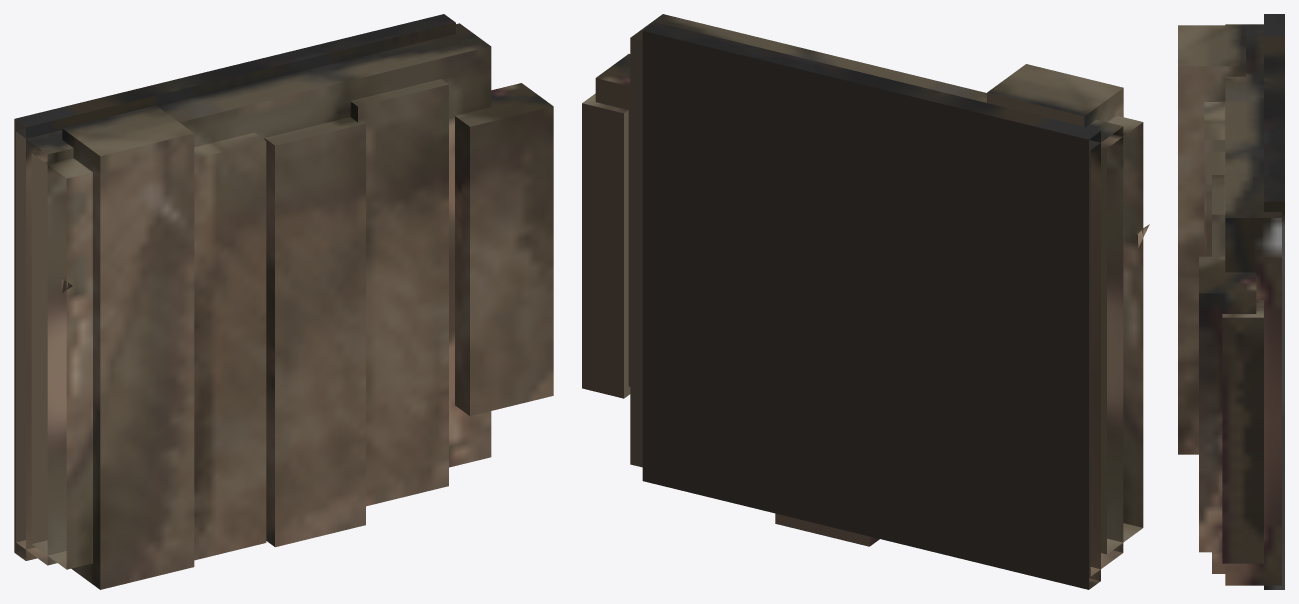
The model's file is section-1.obj.
The picture shows the model from 3 angles, left to right: view 1: azimuth 30°, elevation 25°; view 2: azimuth 150°, elevation 25°; view 3: azimuth 270°, elevation 25°; orthographic projection. The views are drawn at different scales.
Size of the model in its own units: 0.99 by 0.8504 by 0.205.
1 material, 1 textured.
